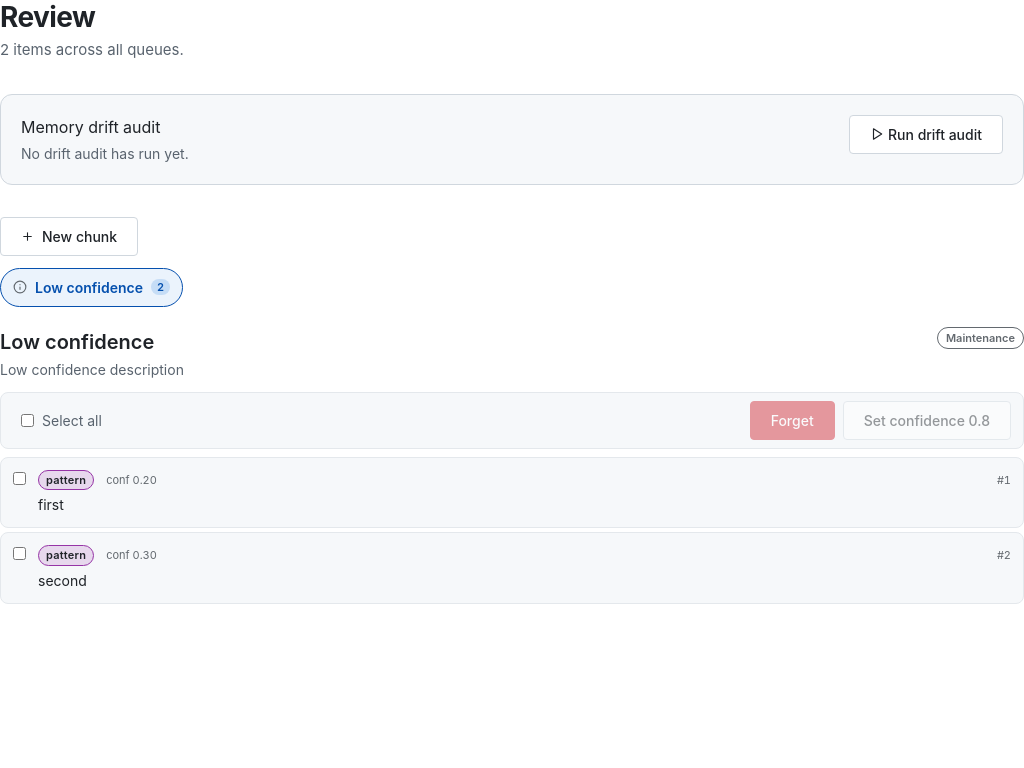
Test case: CuratePage destructive actions › asks before forgetting, and says how many
The width and height of the screenshot is (1024, 768).
Expected: the text "first" is shown, [38,496,64,513]
Step 1. Click the checkbox labelled "Select all" → (28, 420), box [21,414,34,426]
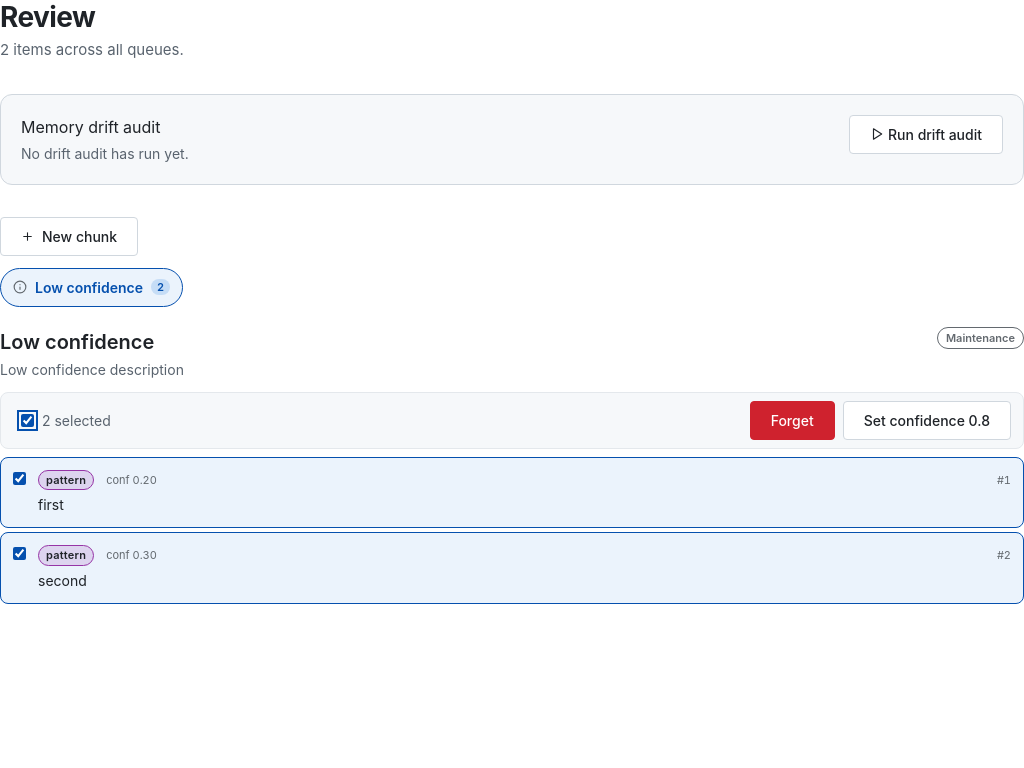
Step 2. Click the button "Forget" → (792, 420), box [750,400,835,440]
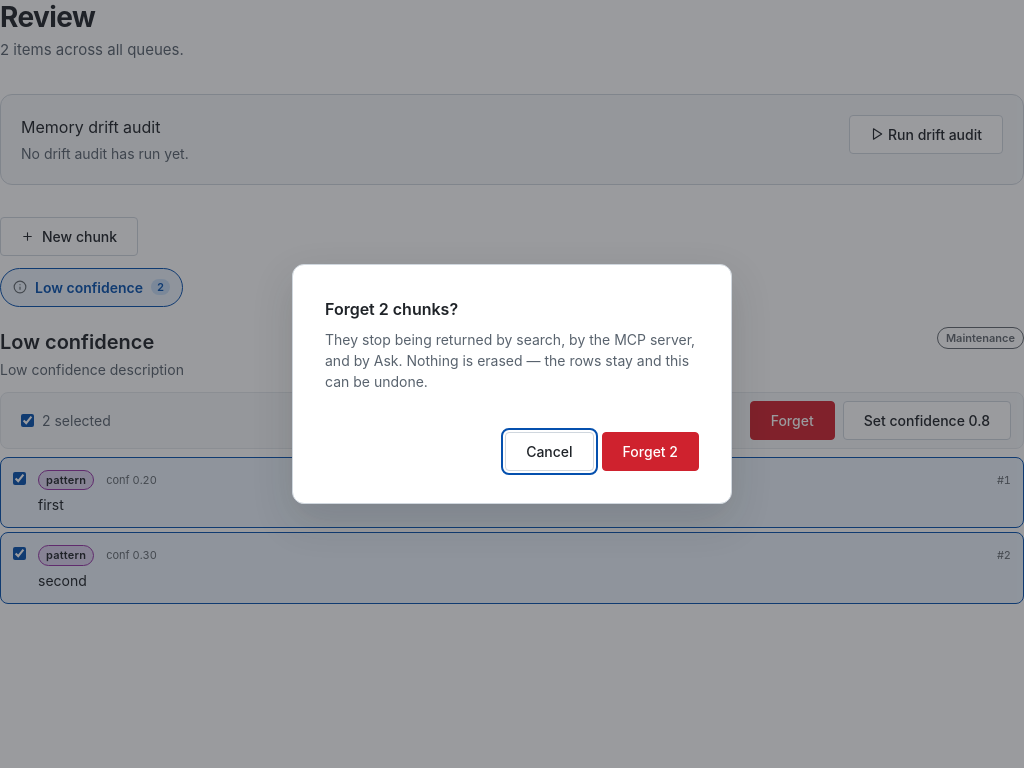
Expected: the heading "Forget 2 chunks?" is shown, [325,299,458,319]
